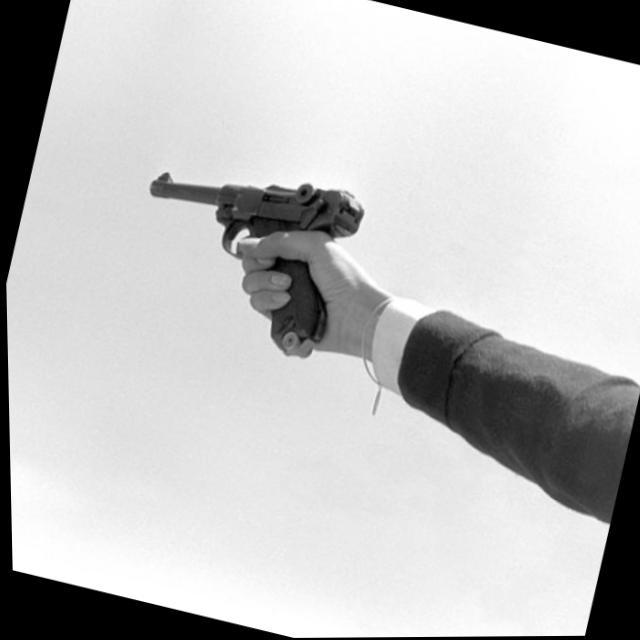weapon: (114, 142, 371, 368)
